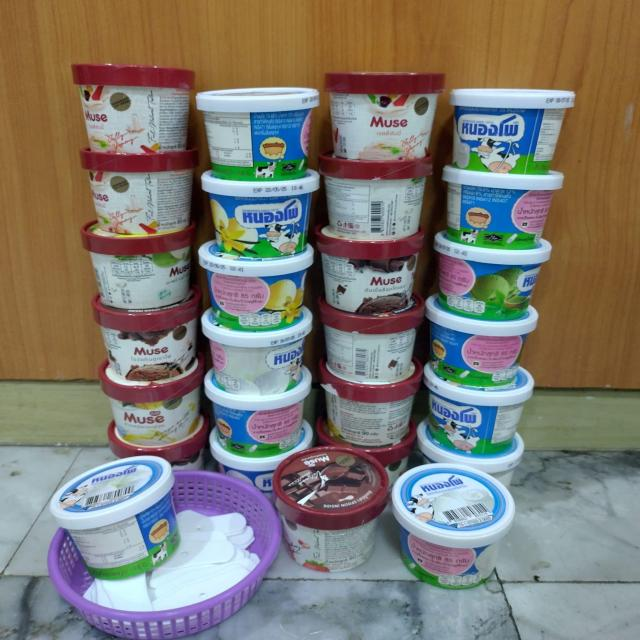Single-Use-Plastic: (51, 456, 179, 580), (392, 464, 514, 589), (273, 446, 389, 572), (196, 88, 319, 181), (72, 64, 195, 153), (449, 89, 575, 174), (325, 72, 445, 161), (91, 286, 202, 381), (201, 170, 319, 259), (198, 240, 313, 331), (425, 295, 537, 388), (435, 231, 552, 320), (442, 165, 563, 250), (79, 149, 199, 234), (81, 221, 195, 310), (201, 306, 312, 396), (423, 365, 535, 454), (319, 152, 432, 240), (315, 225, 425, 314), (204, 368, 312, 458), (100, 354, 204, 446), (319, 359, 423, 448), (318, 296, 423, 382)
